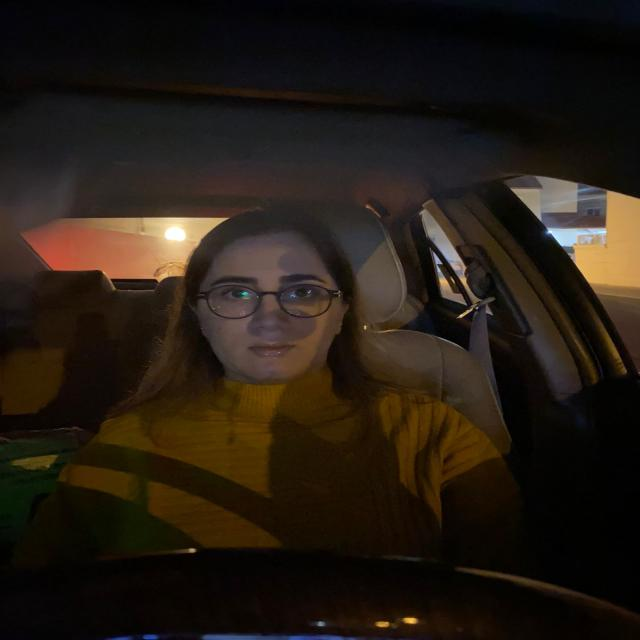person: (178, 200, 359, 392)
